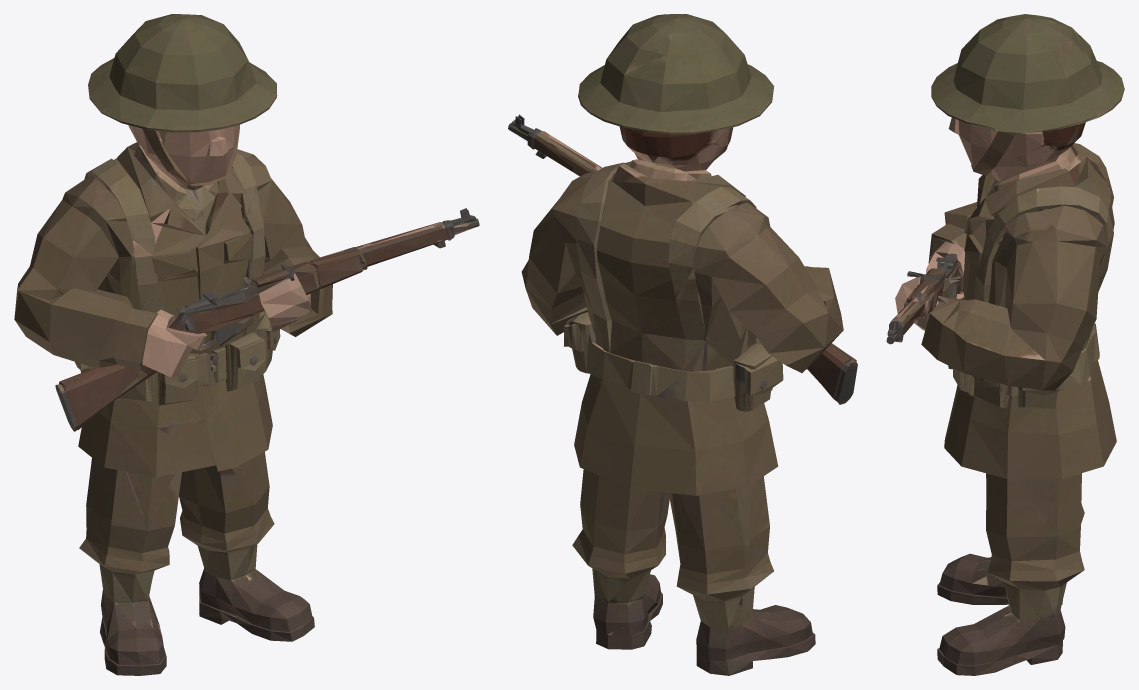
The model's file is bulge_british_inf_0.glb.
The picture shows the model from 3 angles, left to right: view 1: azimuth 30°, elevation 25°; view 2: azimuth 150°, elevation 25°; view 3: azimuth 270°, elevation 25°; orthographic projection. The views are drawn at different scales.
Parts seen in each view (by area): view 1: geometry_0; view 2: geometry_0; view 3: geometry_0.
Part boxes in pixels (bbox=[...]): geometry_0: bbox=[14, 14, 479, 675]; geometry_0: bbox=[508, 14, 857, 675]; geometry_0: bbox=[886, 14, 1124, 675].
Size of the model in its own units: 0.2147 by 0.324 by 0.1145.
Materials: 1 (1 with a texture image).
